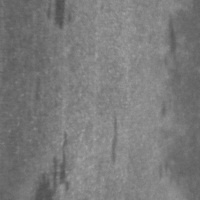inclusion: (48, 126, 74, 199), (160, 6, 183, 84), (102, 107, 129, 169), (44, 0, 68, 34)
